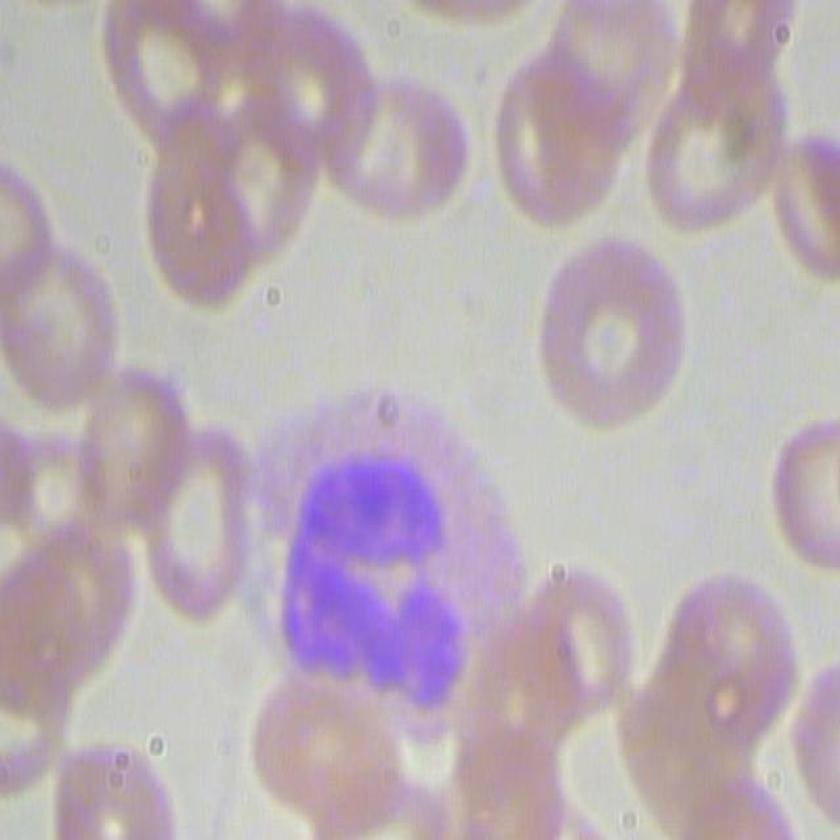neutrophil: (227, 378, 555, 745)
